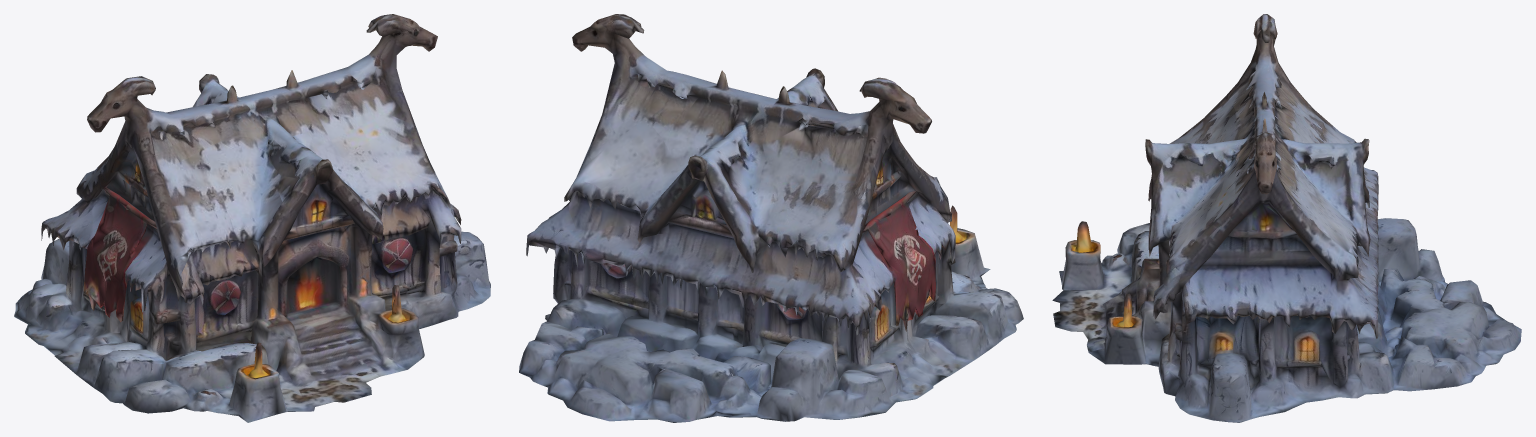
Rendered from r_hall.glb.
The picture shows the model from 3 angles, left to right: view 1: azimuth 30°, elevation 25°; view 2: azimuth 150°, elevation 25°; view 3: azimuth 270°, elevation 25°; orthographic projection. The views are drawn at different scales.
Parts seen in each view (by area): view 1: tripo_node_ffb456be-e36f-420a-b32c-4510ad22cc71; view 2: tripo_node_ffb456be-e36f-420a-b32c-4510ad22cc71; view 3: tripo_node_ffb456be-e36f-420a-b32c-4510ad22cc71.
Boxes of the visible parts, x1,y1,x2,y2 form: tripo_node_ffb456be-e36f-420a-b32c-4510ad22cc71: [14, 14, 490, 422]; tripo_node_ffb456be-e36f-420a-b32c-4510ad22cc71: [519, 14, 1023, 422]; tripo_node_ffb456be-e36f-420a-b32c-4510ad22cc71: [1052, 14, 1521, 422].
Size of the model in its own units: 3.99 by 2.5 by 4.2.
1 material, 1 textured.
